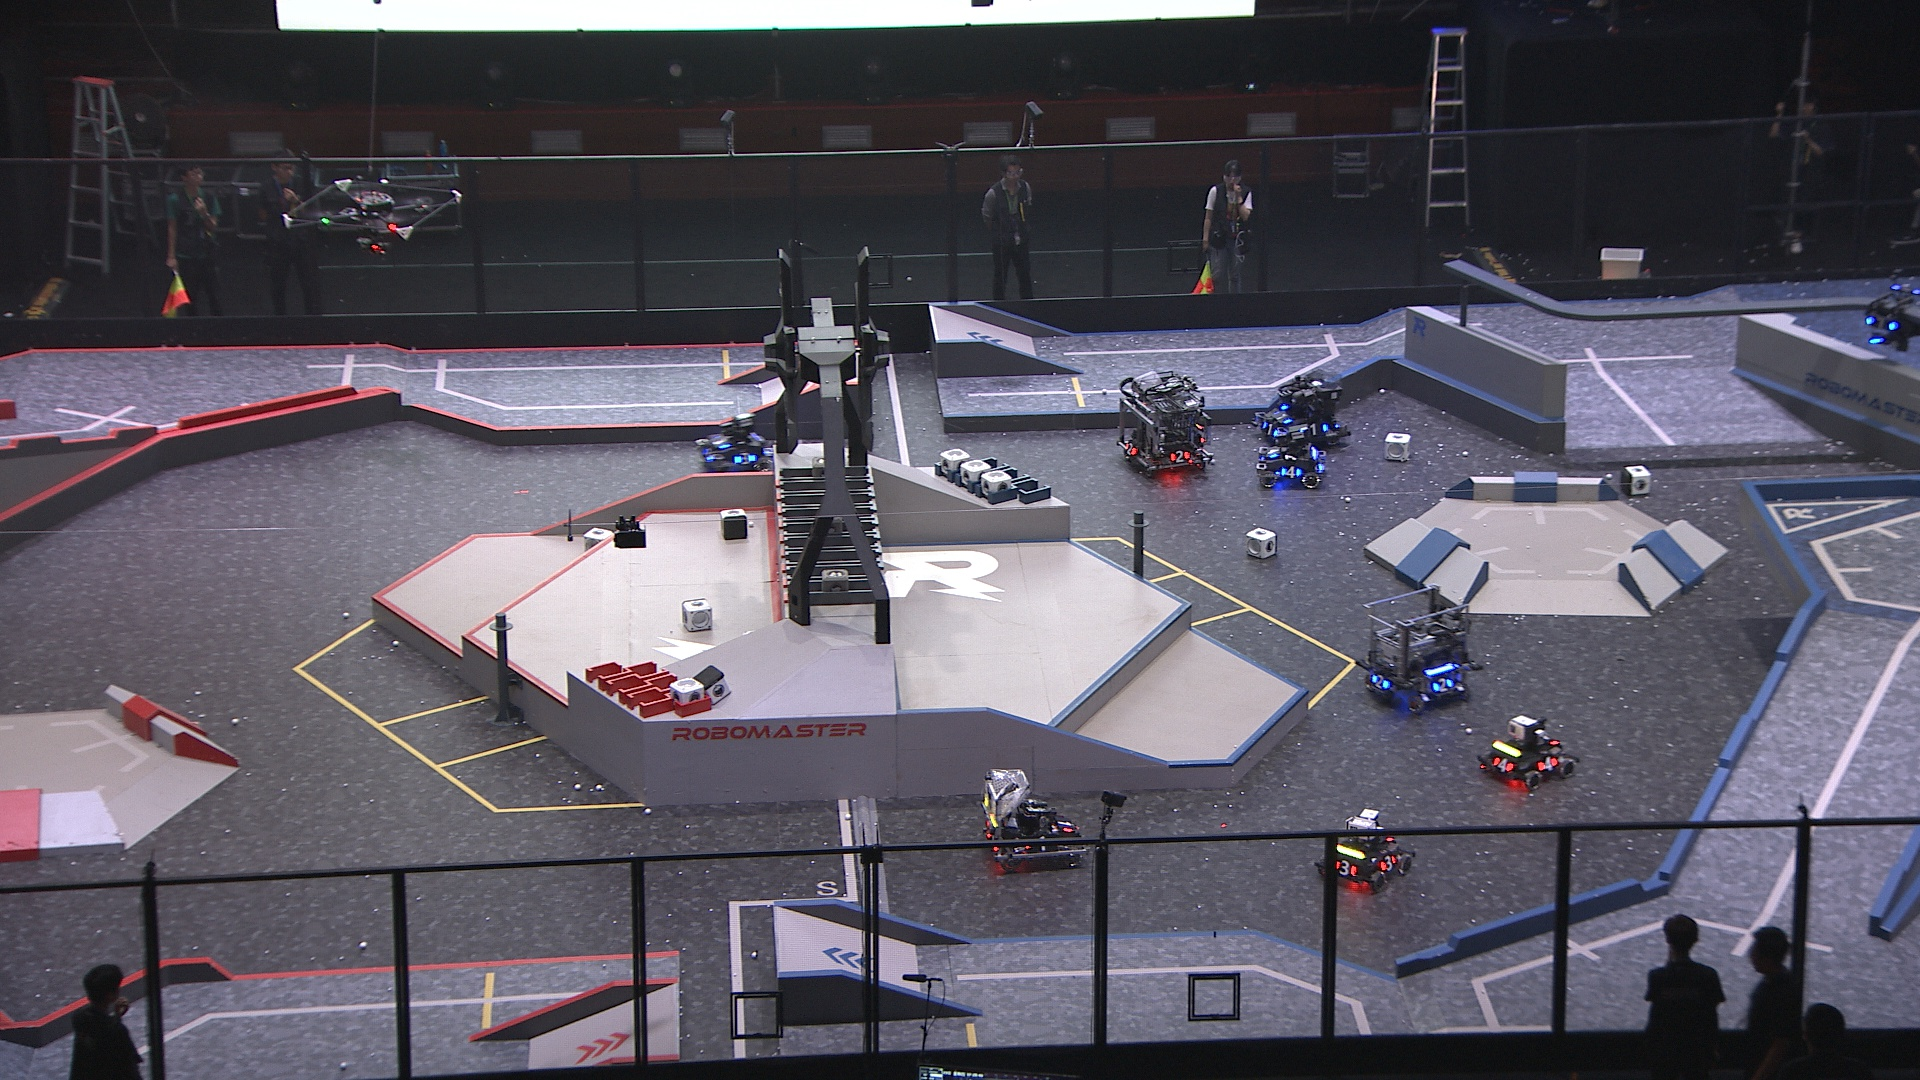armor: (1865, 315, 1898, 334), (1021, 835, 1059, 851), (1333, 858, 1358, 880), (731, 451, 760, 467), (1302, 422, 1329, 438), (1378, 853, 1399, 873), (1367, 674, 1390, 692), (1536, 756, 1560, 773), (1429, 678, 1455, 694), (1491, 756, 1513, 774), (1168, 448, 1191, 465), (1271, 407, 1292, 425), (711, 434, 732, 451), (1278, 465, 1302, 480), (1259, 419, 1278, 438), (1058, 818, 1077, 835), (1122, 439, 1138, 458), (1263, 447, 1280, 460)
car: (1356, 588, 1476, 716), (978, 765, 1091, 870), (1116, 371, 1215, 481), (1311, 808, 1416, 891), (1476, 716, 1578, 790), (1253, 373, 1352, 450), (694, 410, 773, 475), (1253, 429, 1328, 491)
watcher: (1861, 276, 1920, 353)
